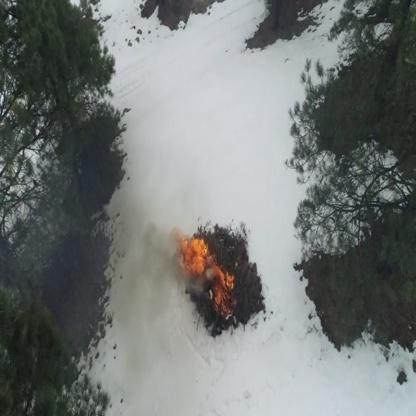Fire: (182, 239, 209, 275), (215, 290, 233, 314), (219, 270, 232, 289), (212, 257, 218, 266)
